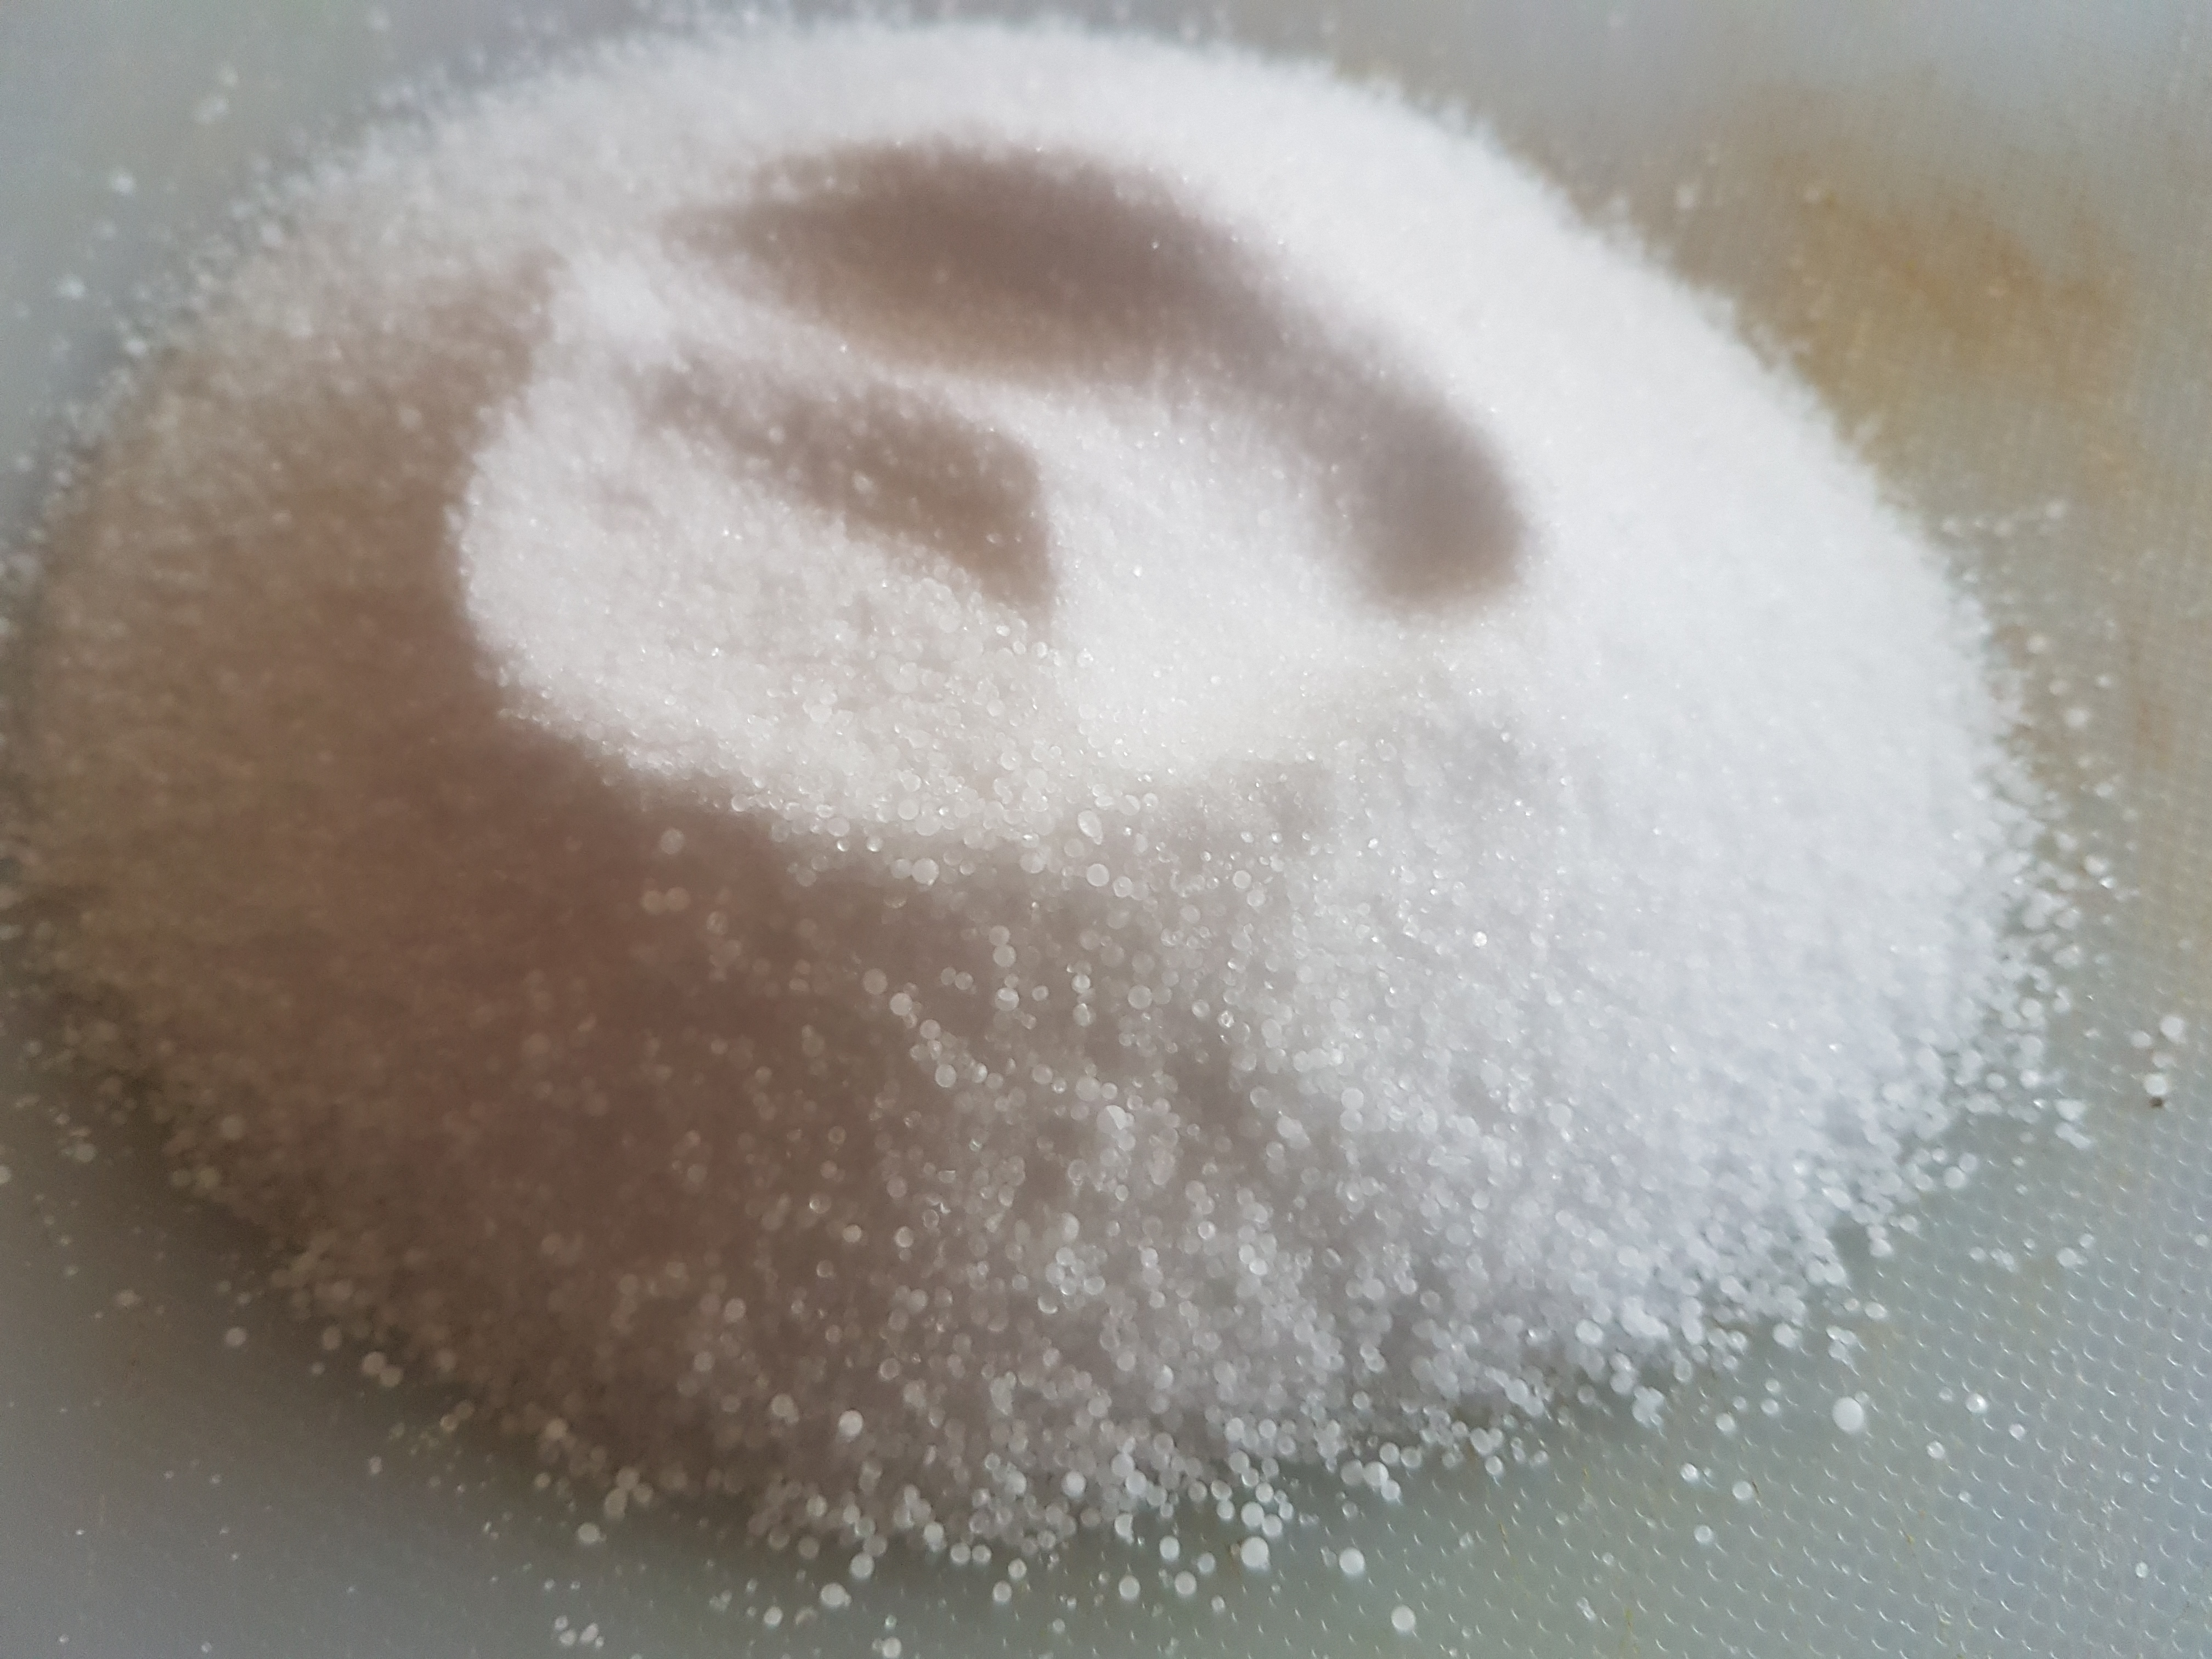Salt: (68, 24, 2212, 1588)
